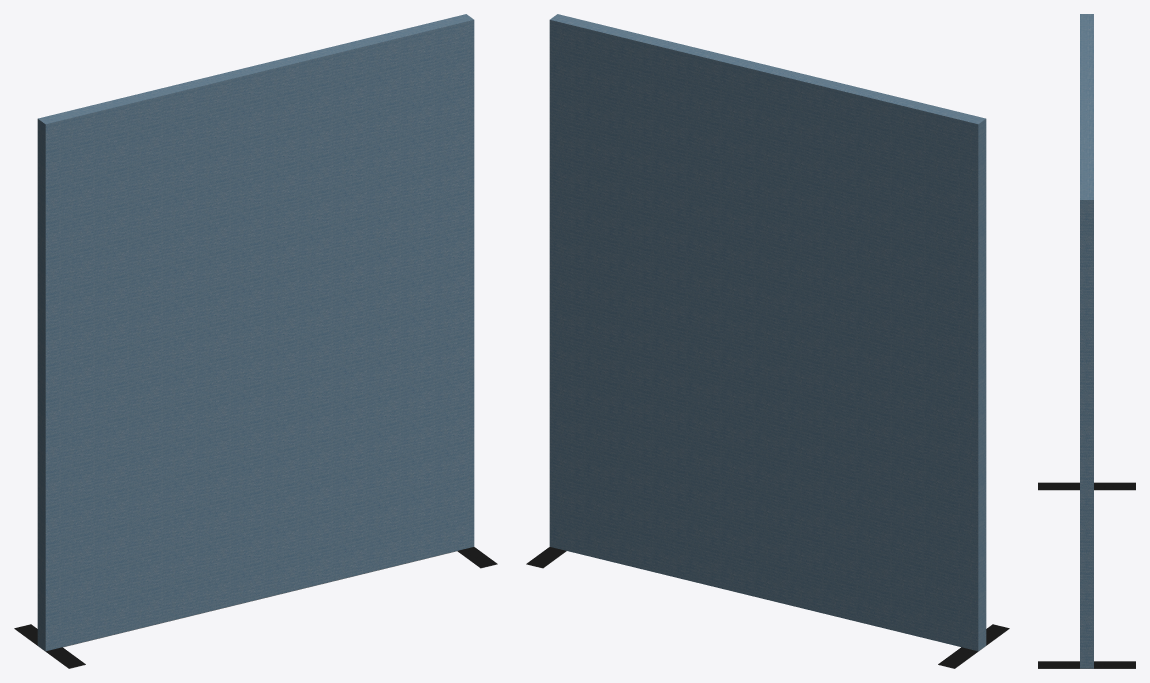
File: wallPartition.gltf
3 renders of one model, left to right at view 1: azimuth 30°, elevation 25°; view 2: azimuth 150°, elevation 25°; view 3: azimuth 270°, elevation 25°, orthographic. The views are drawn at different scales.
Visible parts, largest first — view 1: root; view 2: root; view 3: root.
Part boxes in pixels (<box>): root: <box>14,14,497,668</box>; root: <box>526,14,1009,668</box>; root: <box>1038,14,1135,668</box>.
Bounding box in the file's own units: 1.26 × 1.48 × 0.28.
Materials: 3 (2 with a texture image).
